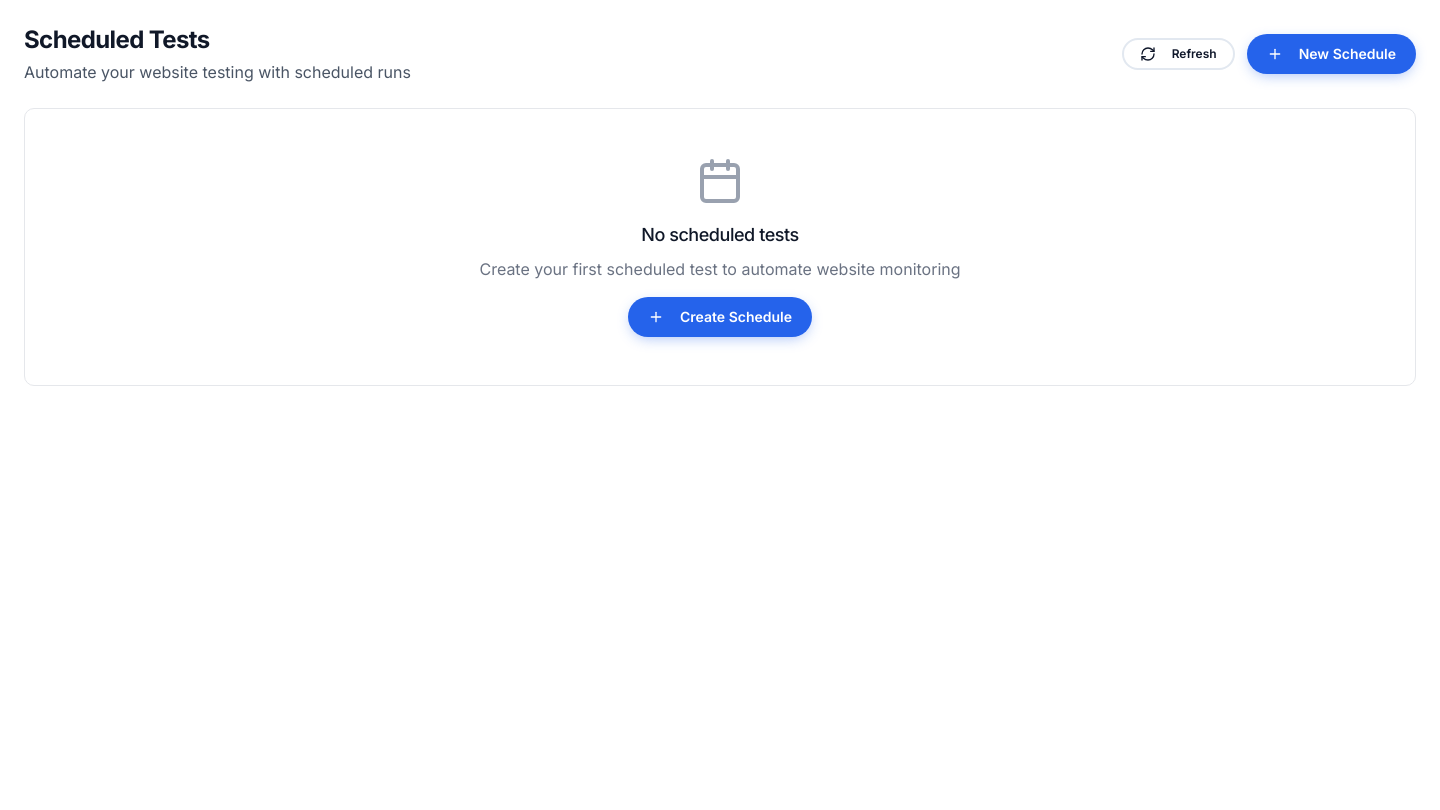
Test: ScheduledPage › should validate required fields
Click the button "New Schedule" at (1331, 54), box [1247, 34, 1416, 74]
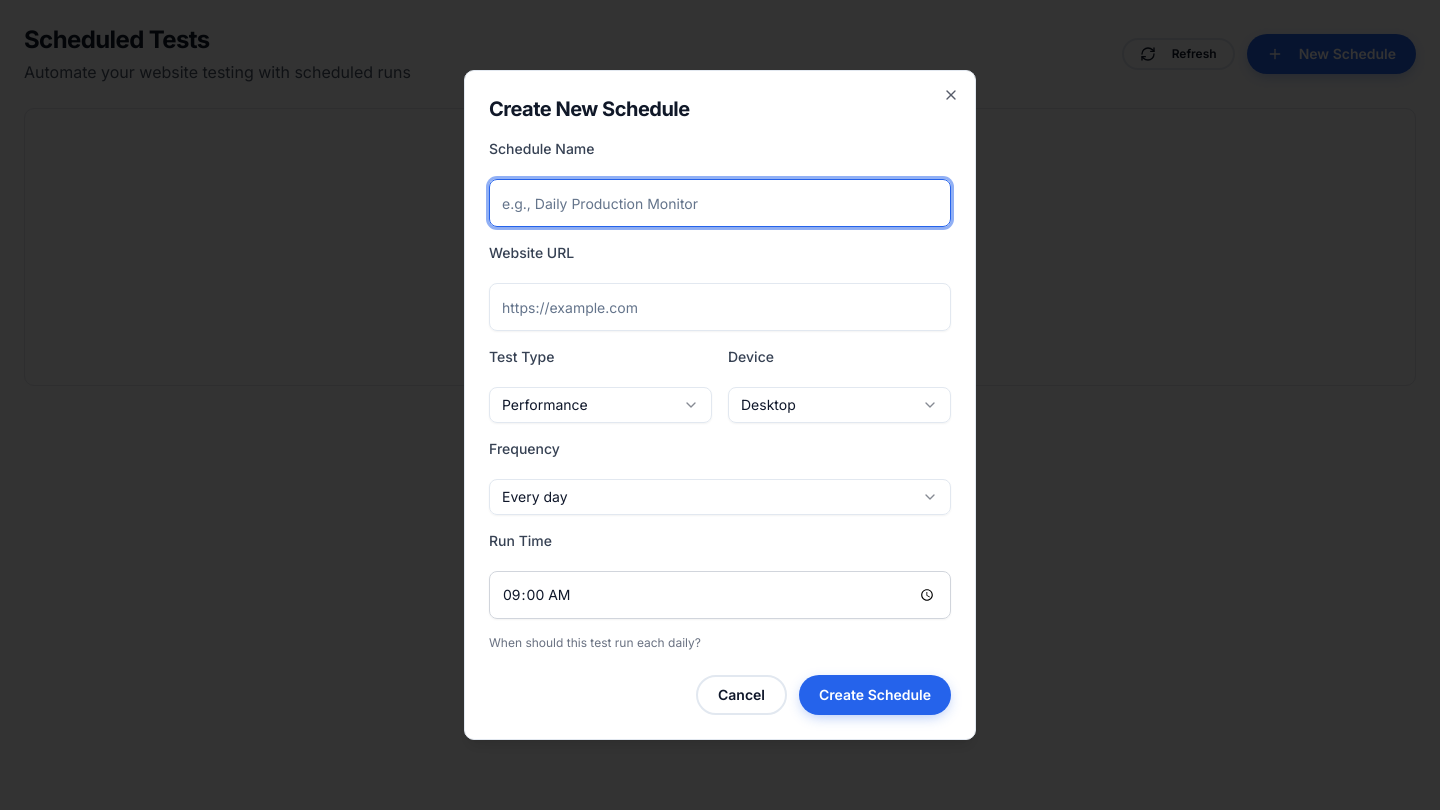
Expected: the heading "Create New Schedule" is shown, [489, 97, 690, 121]
Click the button "Create Schedule" at (875, 695), box [799, 675, 951, 715]
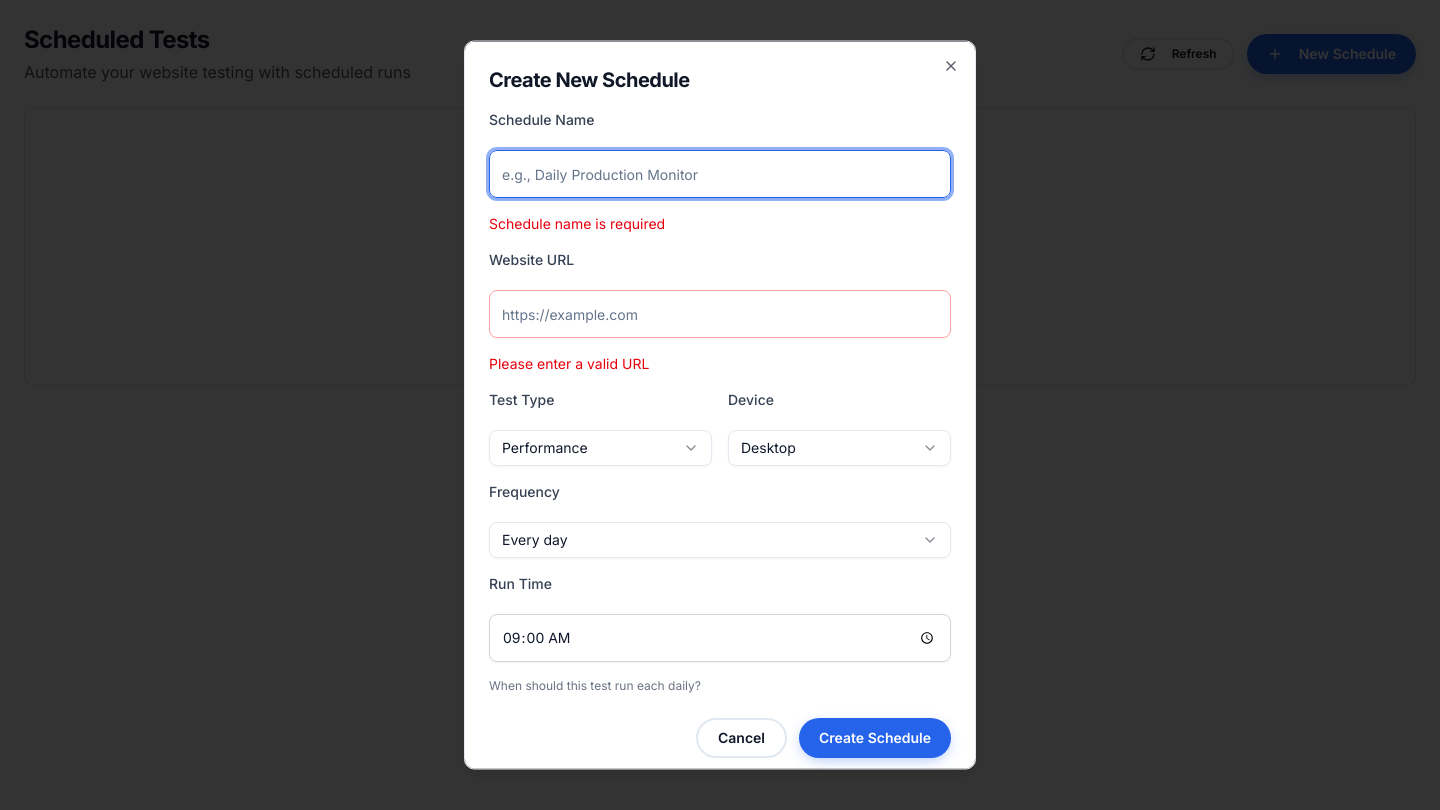
Expected: the text "Schedule name is required" is shown, [489, 214, 665, 232]
Expected: the text "Please enter a valid URL" is shown, [489, 354, 649, 372]
